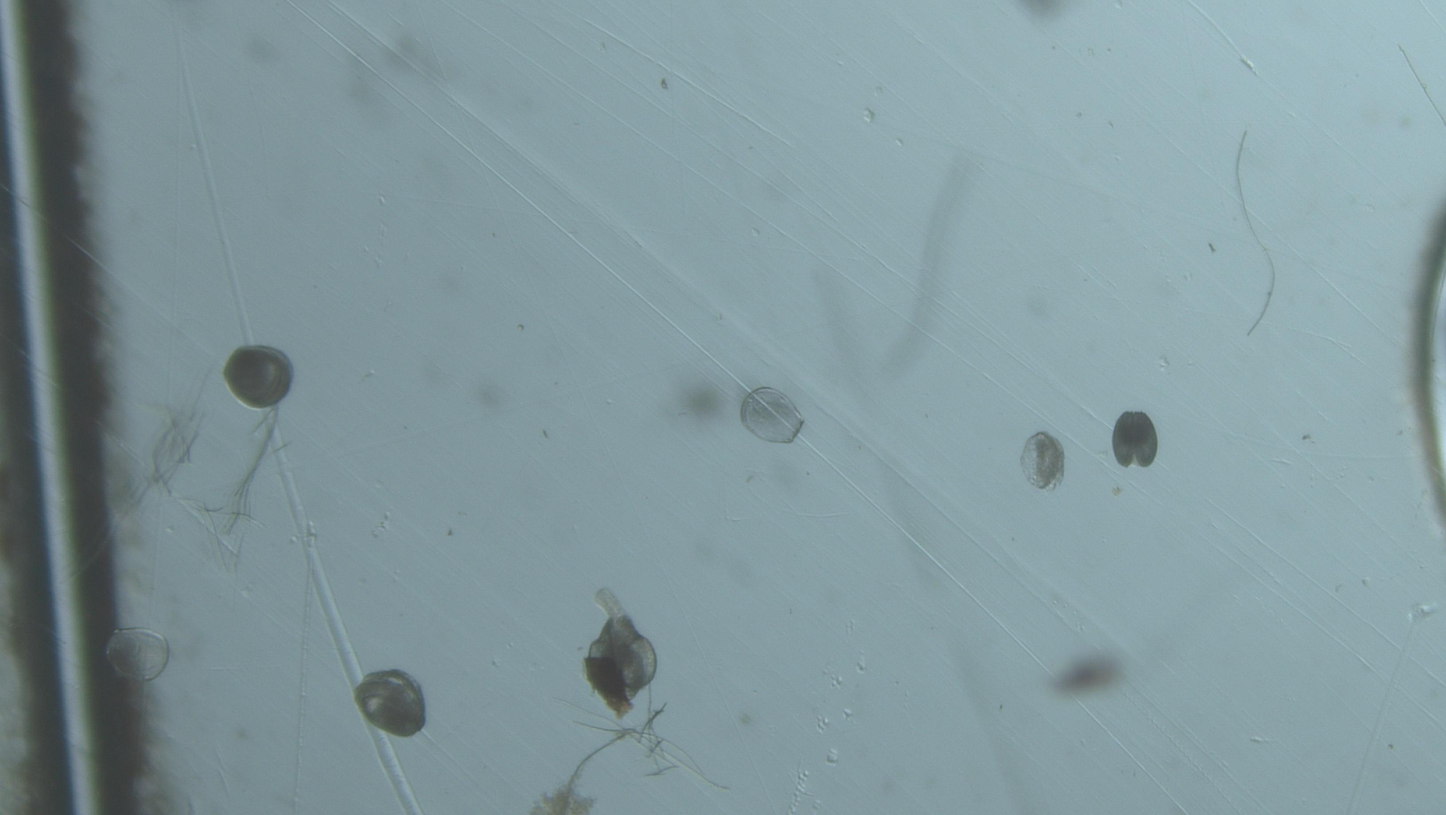dead: (740, 387, 805, 444), (106, 629, 170, 682), (1020, 432, 1065, 492)
live: (583, 589, 657, 720), (354, 670, 426, 737), (223, 345, 293, 410), (1112, 411, 1158, 468)
